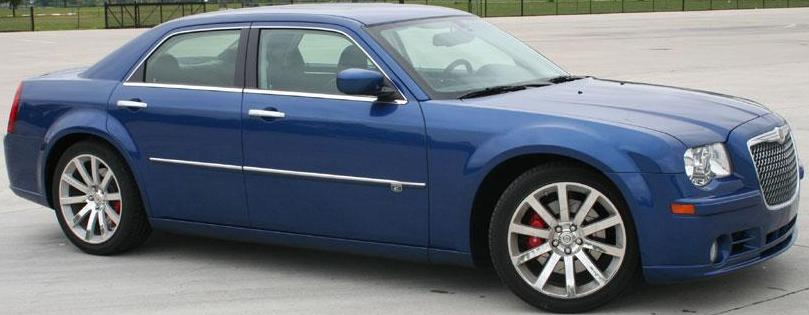front_view: (646, 93, 807, 276)
headlight: (667, 135, 745, 203)
side_glass: (115, 21, 413, 108)
